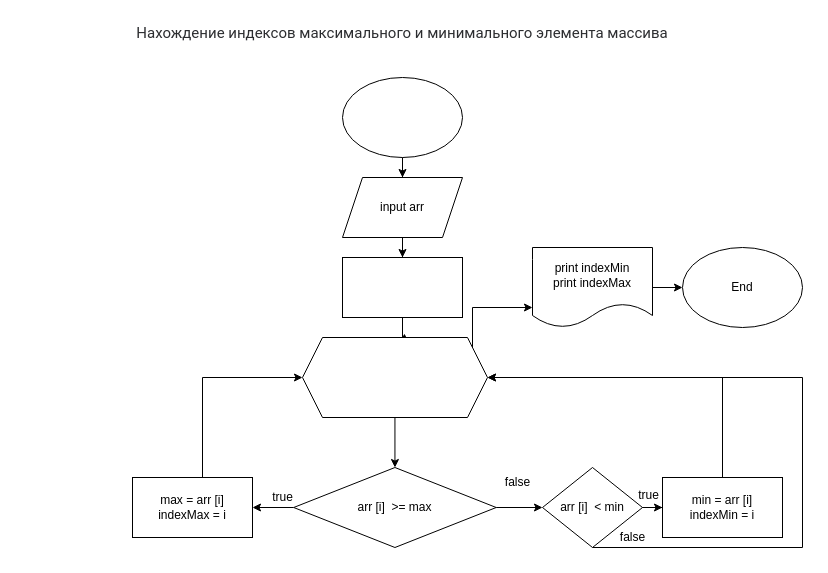
This 828x573 diagram has some shape labels left out. Here are the shapes that lost their labels. From the top down, the box of each, then its label:
(342, 76, 462, 158): Start
(342, 256, 462, 318): min = arr [0] max = arr [0] indexMin = 0 indexMax = 0
(302, 336, 488, 418): i = 0; i < arr.lenght; i++
